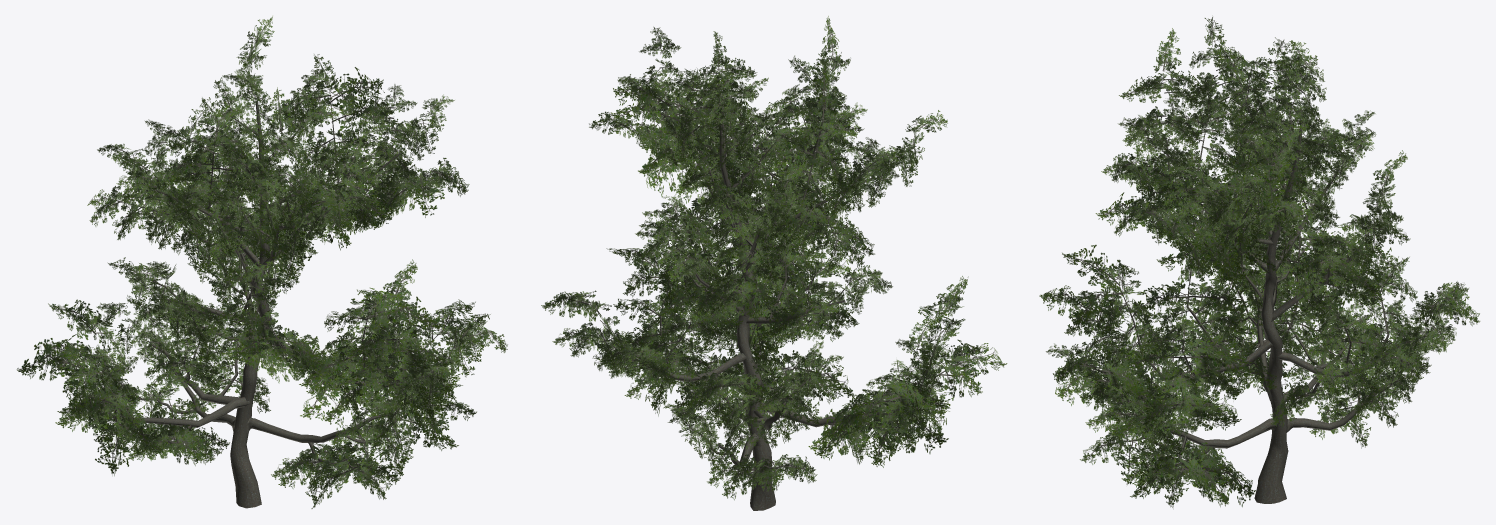
File: oak_large_2.glb
3 renders of one model, left to right at view 1: azimuth 30°, elevation 25°; view 2: azimuth 150°, elevation 25°; view 3: azimuth 270°, elevation 25°, orthographic.
Parts seen in each view (by area): view 1: Large_oak_tree_002_LOD1_Cluster_Mat_0, Large_oak_tree_002_LOD1_Bark_Mat_0; view 2: Large_oak_tree_002_LOD1_Cluster_Mat_0, Large_oak_tree_002_LOD1_Bark_Mat_0; view 3: Large_oak_tree_002_LOD1_Cluster_Mat_0, Large_oak_tree_002_LOD1_Bark_Mat_0.
Boxes of the visible parts, <box> form: Large_oak_tree_002_LOD1_Cluster_Mat_0: <box>17,16,507,508</box>; Large_oak_tree_002_LOD1_Bark_Mat_0: <box>78,91,441,508</box>; Large_oak_tree_002_LOD1_Cluster_Mat_0: <box>541,16,1007,500</box>; Large_oak_tree_002_LOD1_Bark_Mat_0: <box>601,81,944,510</box>; Large_oak_tree_002_LOD1_Cluster_Mat_0: <box>1039,17,1480,508</box>; Large_oak_tree_002_LOD1_Bark_Mat_0: <box>1119,87,1408,503</box>.
Bounding box in the file's own units: 24.49 × 26.99 × 22.64.
2 materials, 2 textured.
